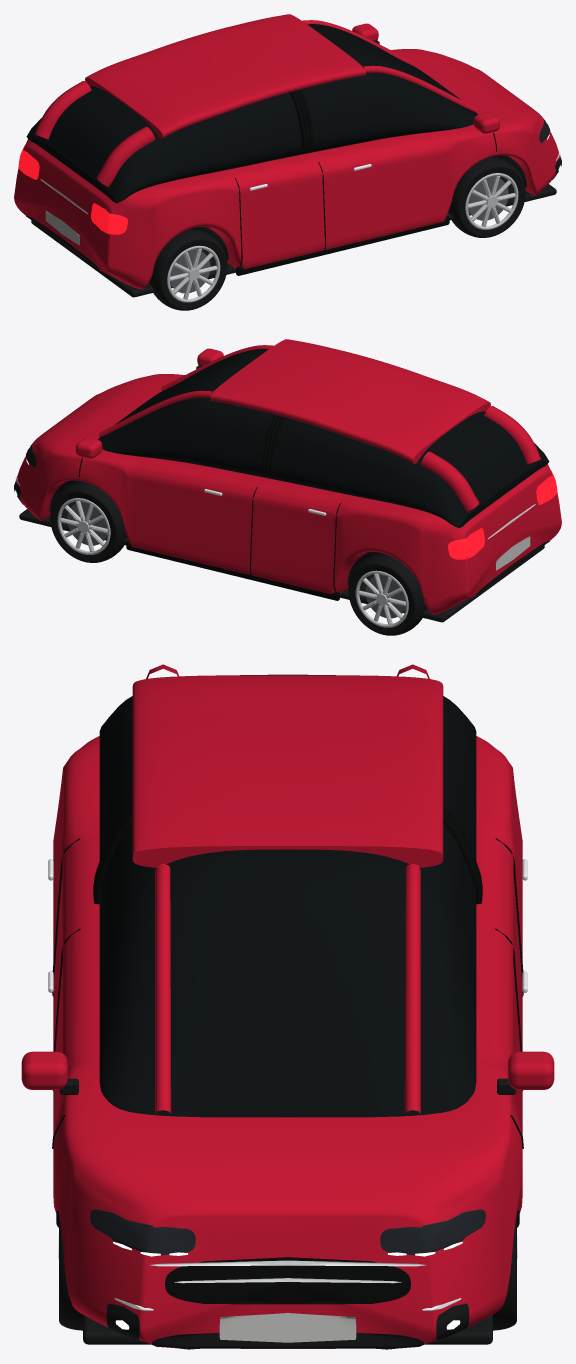
The model's file is maruti-baleno.glb.
3 renders of one model, top to bottom at view 1: azimuth 30°, elevation 25°; view 2: azimuth 150°, elevation 25°; view 3: azimuth 270°, elevation 25°, orthographic. The views are drawn at different scales.
Visible parts, largest first — view 1: Body, Glasshouse, Roof, Tyre (×2), Pillar (×4), Trim, Disc (×2), Rim (×2), Taillamp (×2), GlossBlack, Paint, Plate; view 2: Body, Glasshouse, Roof, Tyre (×2), Pillar (×4), Trim, Disc (×2), Rim (×2), Taillamp (×2), GlossBlack, Paint, Plate; view 3: Body, Glasshouse, Roof, GlossBlack, Pillar (×2), Trim (×2), Headlamp (×2), Plate, Paint (×2), Tyre (×2), Chrome.
Part boxes in pixels (bbox=[...]): Body: bbox=[14, 49, 561, 289]; Glasshouse: bbox=[26, 24, 477, 203]; Roof: bbox=[85, 14, 365, 138]; Tyre (×2): bbox=[149, 156, 525, 310]; Pillar (×4): bbox=[35, 20, 476, 186]; Trim: bbox=[31, 176, 556, 297]; Disc (×2): bbox=[170, 176, 508, 293]; Rim (×2): bbox=[167, 173, 518, 302]; Taillamp (×2): bbox=[18, 145, 127, 234]; GlossBlack: bbox=[236, 216, 449, 275]; Paint: bbox=[473, 112, 499, 133]; Plate: bbox=[45, 211, 79, 245]; Body: bbox=[14, 374, 561, 614]; Glasshouse: bbox=[98, 349, 549, 528]; Roof: bbox=[210, 339, 490, 463]; Tyre (×2): bbox=[50, 481, 426, 635]; Pillar (×4): bbox=[99, 345, 540, 511]; Trim: bbox=[19, 501, 544, 622]; Disc (×2): bbox=[67, 501, 405, 618]; Rim (×2): bbox=[57, 498, 408, 627]; Taillamp (×2): bbox=[448, 470, 557, 559]; GlossBlack: bbox=[126, 541, 339, 600]; Paint: bbox=[76, 437, 102, 458]; Plate: bbox=[496, 536, 530, 570]; Body: bbox=[53, 736, 522, 1348]; Glasshouse: bbox=[99, 674, 476, 1117]; Roof: bbox=[132, 675, 443, 867]; GlossBlack: bbox=[165, 1257, 410, 1304]; Pillar (×2): bbox=[155, 863, 420, 1113]; Trim (×2): bbox=[83, 1314, 492, 1349]; Headlamp (×2): bbox=[106, 1217, 469, 1255]; Plate: bbox=[219, 1313, 356, 1342]; Paint (×2): bbox=[21, 1051, 554, 1089]; Tyre (×2): bbox=[59, 1213, 516, 1330]; Chrome: bbox=[149, 1260, 426, 1266].
Bounding box in the file's own units: 3.93 × 1.51 × 1.95.
